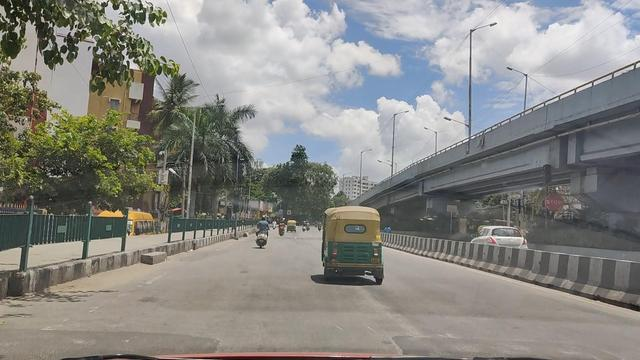LMV: (323, 203, 386, 279)
RoadDamages: (325, 312, 449, 351)
